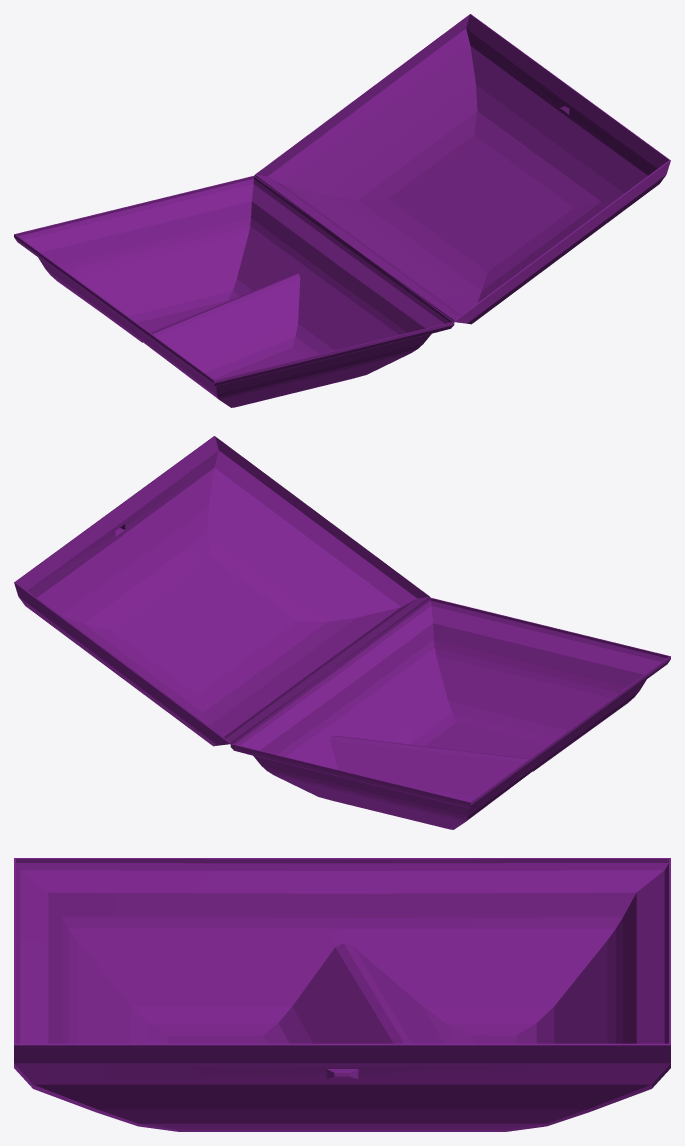
Rendered from FoodBox_Open.glb.
3 views of the same model, one above another, from view 1: azimuth 30°, elevation 25°; view 2: azimuth 150°, elevation 25°; view 3: azimuth 270°, elevation 25° (orthographic). The views are drawn at different scales.
Visible parts, largest first — view 1: FoodBox Open; view 2: FoodBox Open; view 3: FoodBox Open.
Boxes of the visible parts, x1,y1,x2,y2 form: FoodBox Open: [14, 14, 670, 407]; FoodBox Open: [14, 436, 670, 829]; FoodBox Open: [14, 858, 670, 1131].
Bounding box in the file's own units: 3.16 × 1.21 × 2.39.
1 material, 1 textured.
